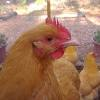buff: (23, 16, 84, 65)
